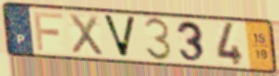3: (176, 19, 211, 64), (141, 16, 173, 63)
4: (215, 20, 245, 68)
F: (32, 10, 65, 53)
V: (100, 13, 138, 60)
X: (67, 11, 106, 58)
